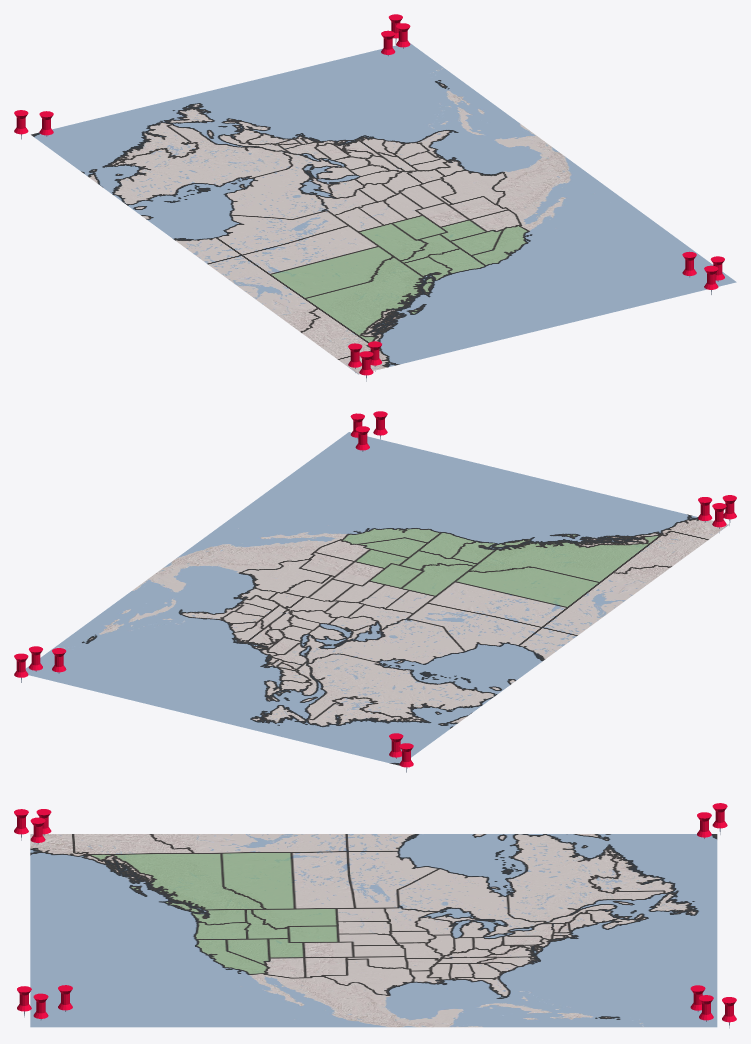
The model's file is region-map-1.glb.
The picture shows the model from 3 angles, top to bottom: view 1: azimuth 30°, elevation 25°; view 2: azimuth 150°, elevation 25°; view 3: azimuth 270°, elevation 25°; orthographic projection. The views are drawn at different scales.
Visible parts, largest first — view 1: Plane; view 2: Plane; view 3: Plane.
Part boxes in pixels (box(x1,y1,x2,y2)): Plane: box(31, 43, 736, 374); Plane: box(25, 432, 728, 765); Plane: box(30, 834, 717, 1027).
Bounding box in the file's own units: 2.07 × 0.1437 × 3.16.
Materials: 3 (1 with a texture image).
